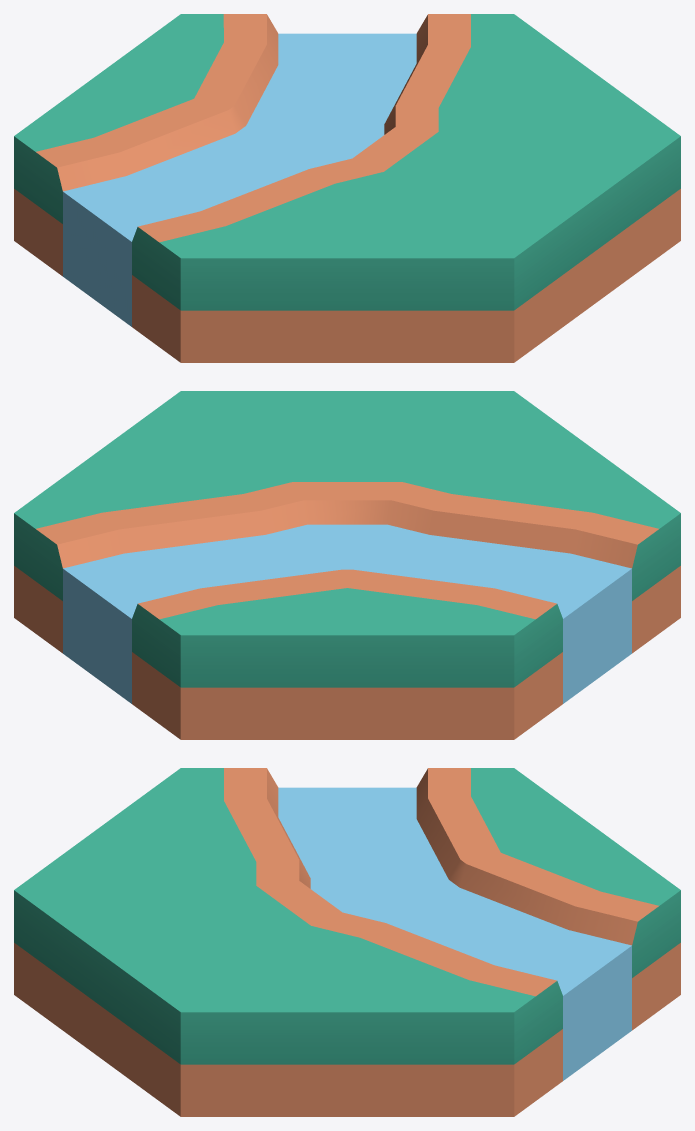
The model's file is kenney-hexagon-river-corner.glb.
3 renders of one model, top to bottom at view 1: azimuth 30°, elevation 25°; view 2: azimuth 150°, elevation 25°; view 3: azimuth 270°, elevation 25°, orthographic.
Visible parts, largest first — view 1: river_corner; view 2: river_corner; view 3: river_corner.
Boxes of the visible parts, x1,y1,x2,y2 form: river_corner: [14, 14, 680, 362]; river_corner: [14, 391, 680, 739]; river_corner: [14, 768, 680, 1116].
Bounding box in the file's own units: 1 × 0.2 × 1.15.
Materials: 1 (1 with a texture image).
